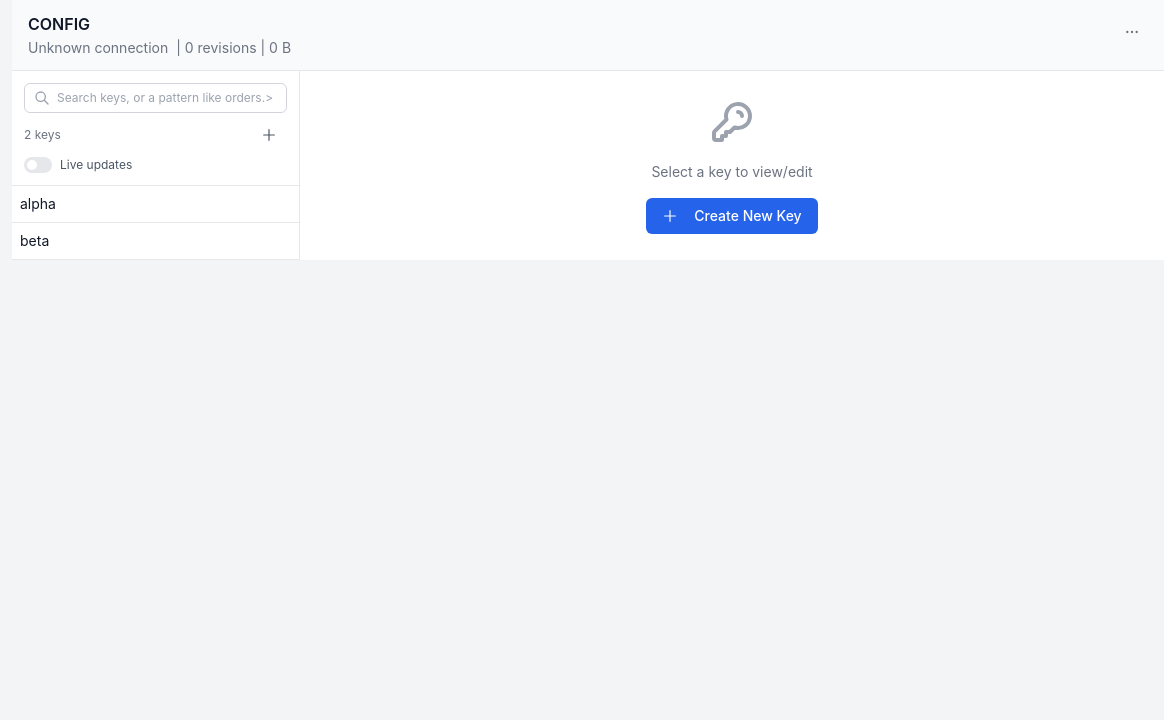
it: KVStorePage › refuses a TTL it cannot read
This screenshot has width=1164, height=720.
Click the button named "New key": (269, 135) [251,121,287,149]
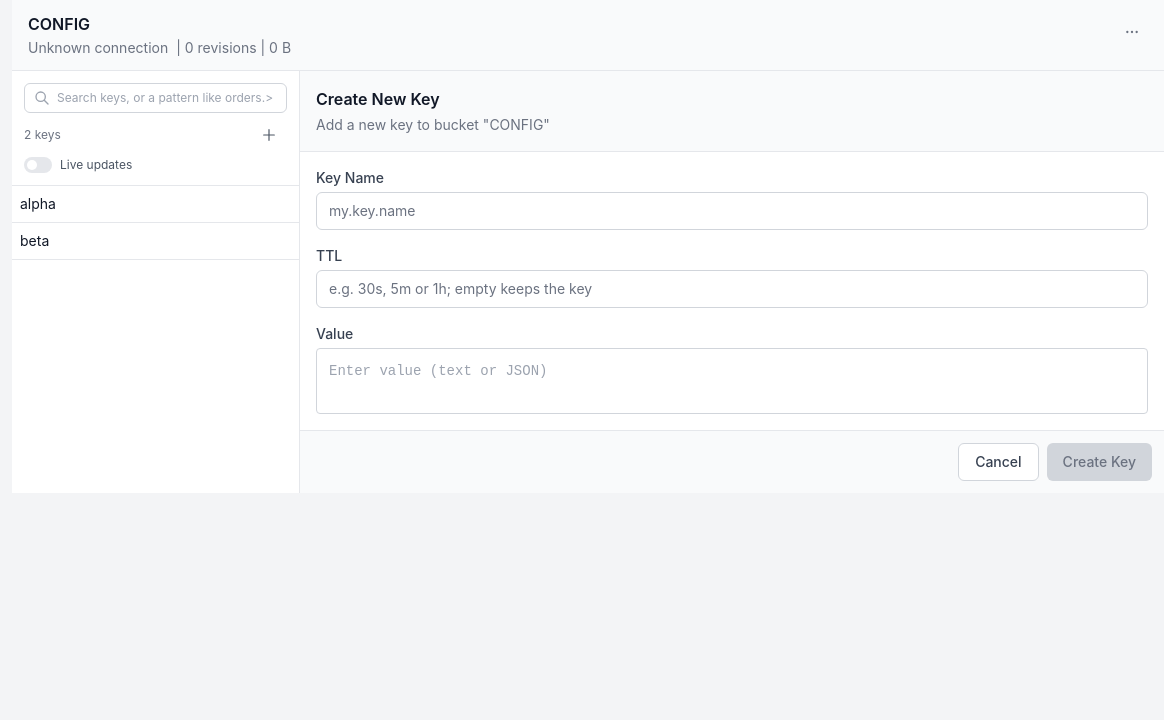
In the field with placeholder "my.key.name": (732, 211) [316,192,1148,230], type "session.1"
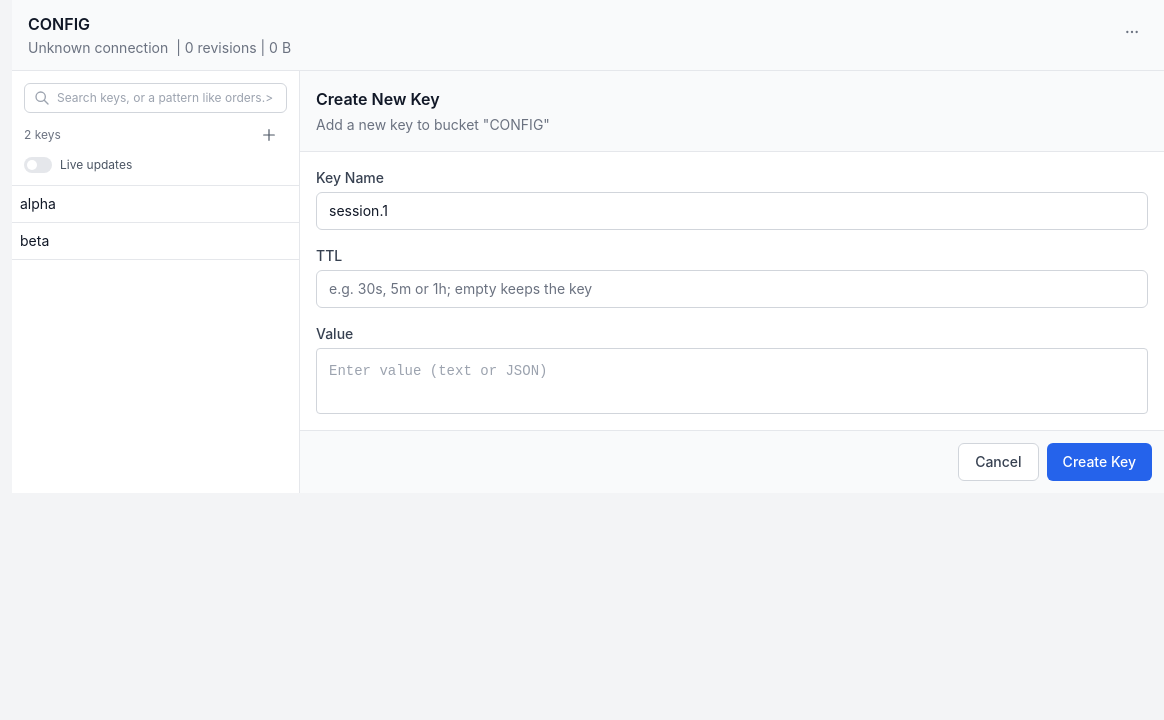
In the field labelled "TTL": (732, 289) [316,270,1148,308], type "soon"
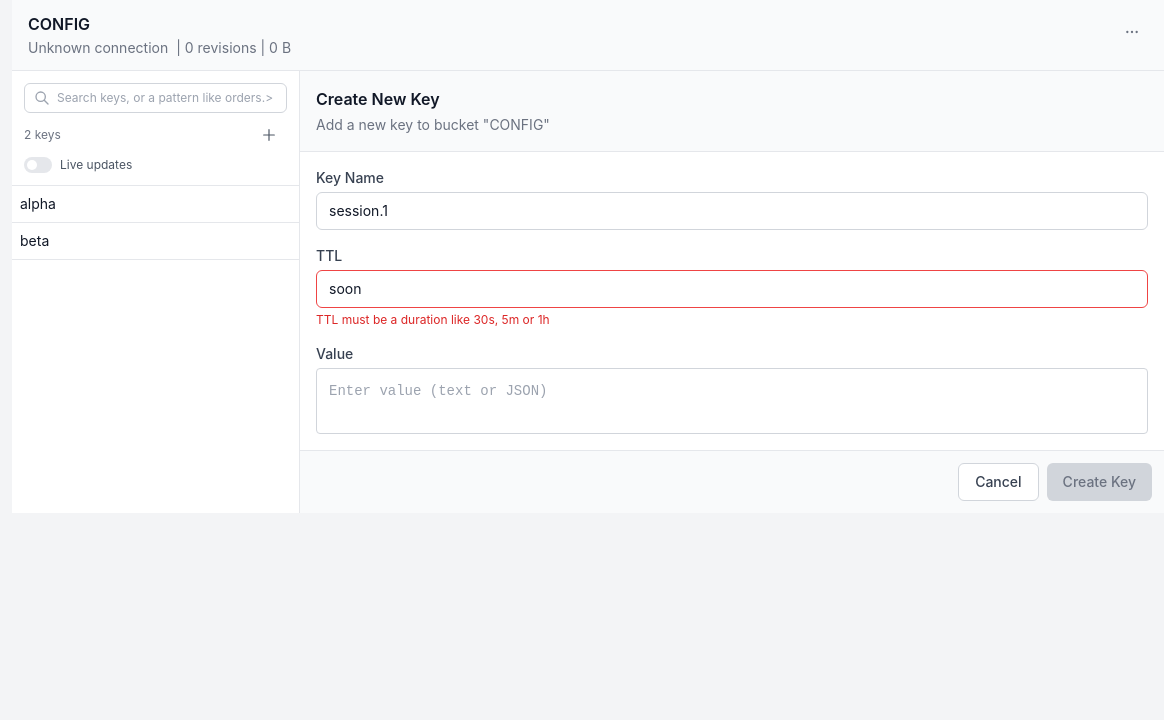
Expected: the text "TTL must be a duration like 30s, 5m or 1h" is shown, [316,312,550,327]
Expected: the button "Create Key" is disabled, [1047,463,1152,501]
